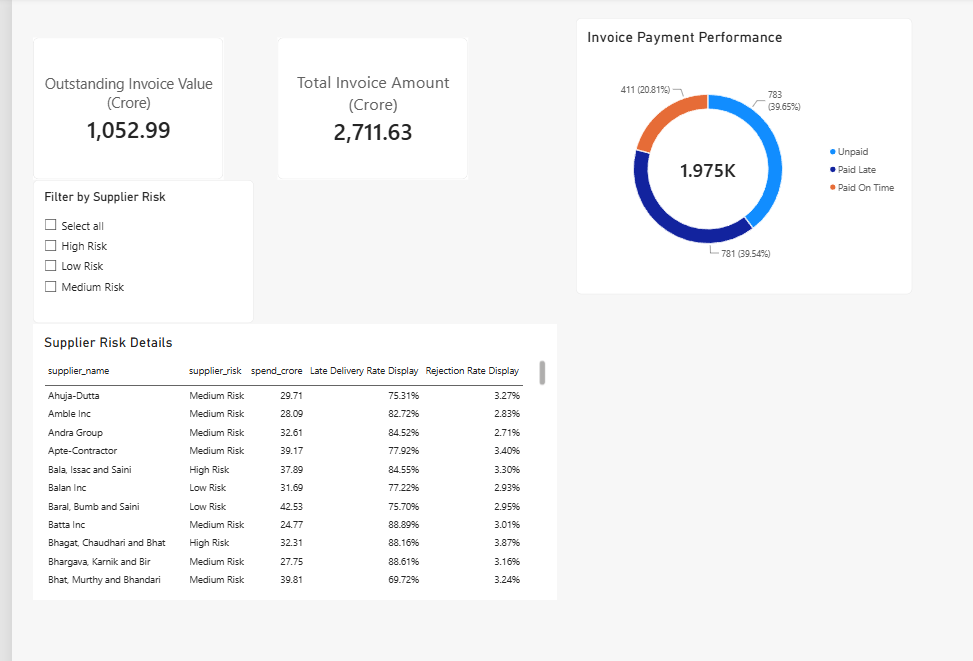

What the dashboard file says about the page in this screenshot:
{"tool":"powerbi","page":{"name":"Financial & Supplier Risk","canvas":[1920,1080],"ordinal":1},"visuals":[{"type":"cardVisual","fields":{"Data":["procurementanalytics vw_procurement_recovery.Outstanding Invoice Value (Crore)"]},"box":[29.8,59.6,280,208.5],"z":0},{"type":"cardVisual","fields":{"Data":["procurementanalytics vw_procurement_recovery.Total Invoice Amount (Crore)"]},"box":[390.2,59.6,280,208.5],"z":1},{"type":"donutChart","title":"Invoice Payment Performance","fields":{"Category":["procurementanalytics vw_invoice_analytics.payment_performance"],"Y":["CountNonNull(procurementanalytics vw_invoice_analytics.invoice_id)"]},"box":[828,29.8,493.1,405],"z":2},{"type":"tableEx","title":"Supplier Risk Details","fields":{"Values":["procurementanalytics vw_supplier_risk.supplier_name","procurementanalytics vw_supplier_risk.supplier_risk","procurementanalytics vw_supplier_risk.spend_crore","procurementanalytics vw_supplier_risk.Late Delivery Rate Display","procurementanalytics vw_supplier_risk.Rejection Rate Display"]},"box":[29.8,479.5,767.7,404.8],"z":3},{"type":"listSlicer","title":"Filter by Supplier Risk","fields":{"Values":["procurementanalytics vw_supplier_risk.supplier_risk"]},"box":[29.8,268,323.7,210.3],"z":4}]}

Visuals, with their boxes on the page's 1920x1080 design canvas (x1, y1, x2, y2). These are canvas units, not pixel positions in the 973x661 screenshot, which may show the page scaled, cropped or inside an application window:
cardVisual - procurementanalytics vw_procurement_recovery.Outstanding Invoice Value (Crore): box(30, 60, 310, 268)
cardVisual - procurementanalytics vw_procurement_recovery.Total Invoice Amount (Crore): box(390, 60, 670, 268)
"Invoice Payment Performance" donutChart: box(828, 30, 1321, 435)
"Supplier Risk Details" tableEx: box(30, 480, 798, 884)
"Filter by Supplier Risk" listSlicer: box(30, 268, 354, 478)
